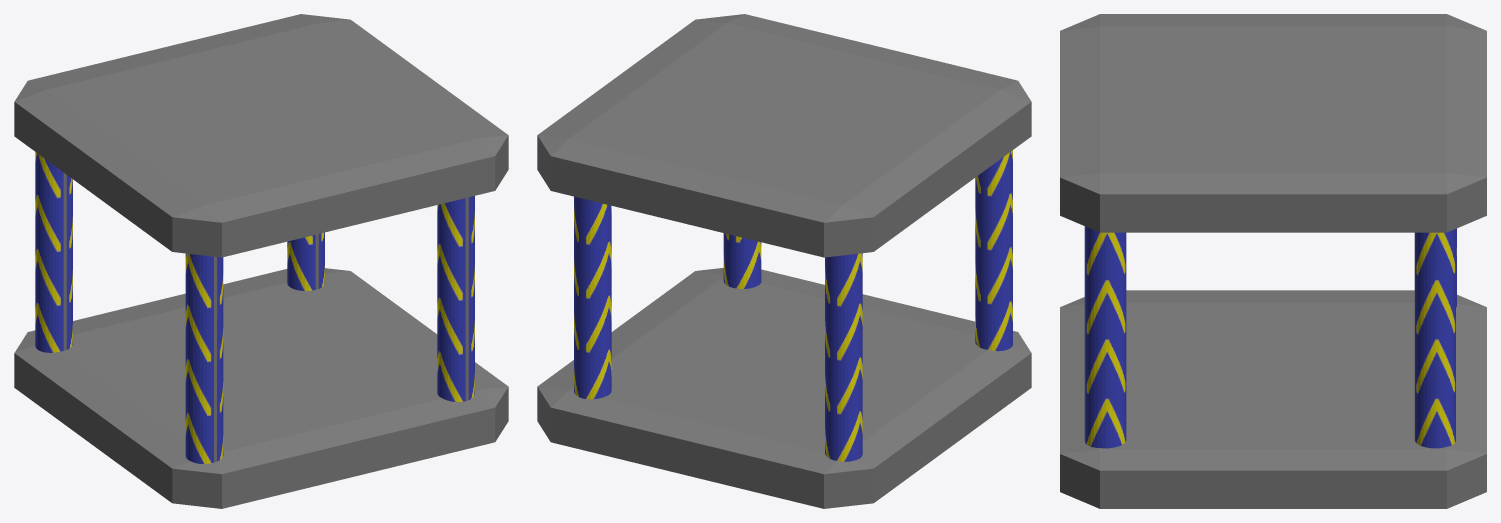
File: Elevator.gltf
The picture shows the model from 3 angles, left to right: view 1: azimuth 30°, elevation 25°; view 2: azimuth 150°, elevation 25°; view 3: azimuth 270°, elevation 25°; orthographic projection. The views are drawn at different scales.
Visible parts, largest first — view 1: Cube.005, Cube.004, Cylinder.003, Cylinder.002, Cylinder.004, Cylinder.001; view 2: Cube.005, Cube.004, Cylinder.004, Cylinder.001, Cylinder.003, Cylinder.002; view 3: Cube.005, Cube.004, Cylinder.002, Cylinder.001.
Part boxes in pixels (x1=…): Cube.005: x1=14, y1=14, x2=508, y2=257; Cube.004: x1=14, y1=268, x2=508, y2=508; Cylinder.003: x1=185, y1=253, x2=223, y2=463; Cylinder.002: x1=437, y1=196, x2=474, y2=401; Cylinder.004: x1=35, y1=152, x2=72, y2=352; Cylinder.001: x1=287, y1=232, x2=324, y2=290; Cube.005: x1=537, y1=14, x2=1031, y2=257; Cube.004: x1=537, y1=268, x2=1031, y2=508; Cylinder.004: x1=825, y1=253, x2=862, y2=461; Cylinder.001: x1=574, y1=196, x2=611, y2=399; Cylinder.003: x1=975, y1=150, x2=1012, y2=351; Cylinder.002: x1=723, y1=233, x2=761, y2=288; Cube.005: x1=1060, y1=14, x2=1486, y2=232; Cube.004: x1=1060, y1=290, x2=1486, y2=508; Cylinder.002: x1=1084, y1=226, x2=1126, y2=448; Cylinder.001: x1=1414, y1=229, x2=1455, y2=448.
Size of the model in its own units: 3.5 by 2.93 by 3.5.
Materials: 3 (3 with a texture image).
